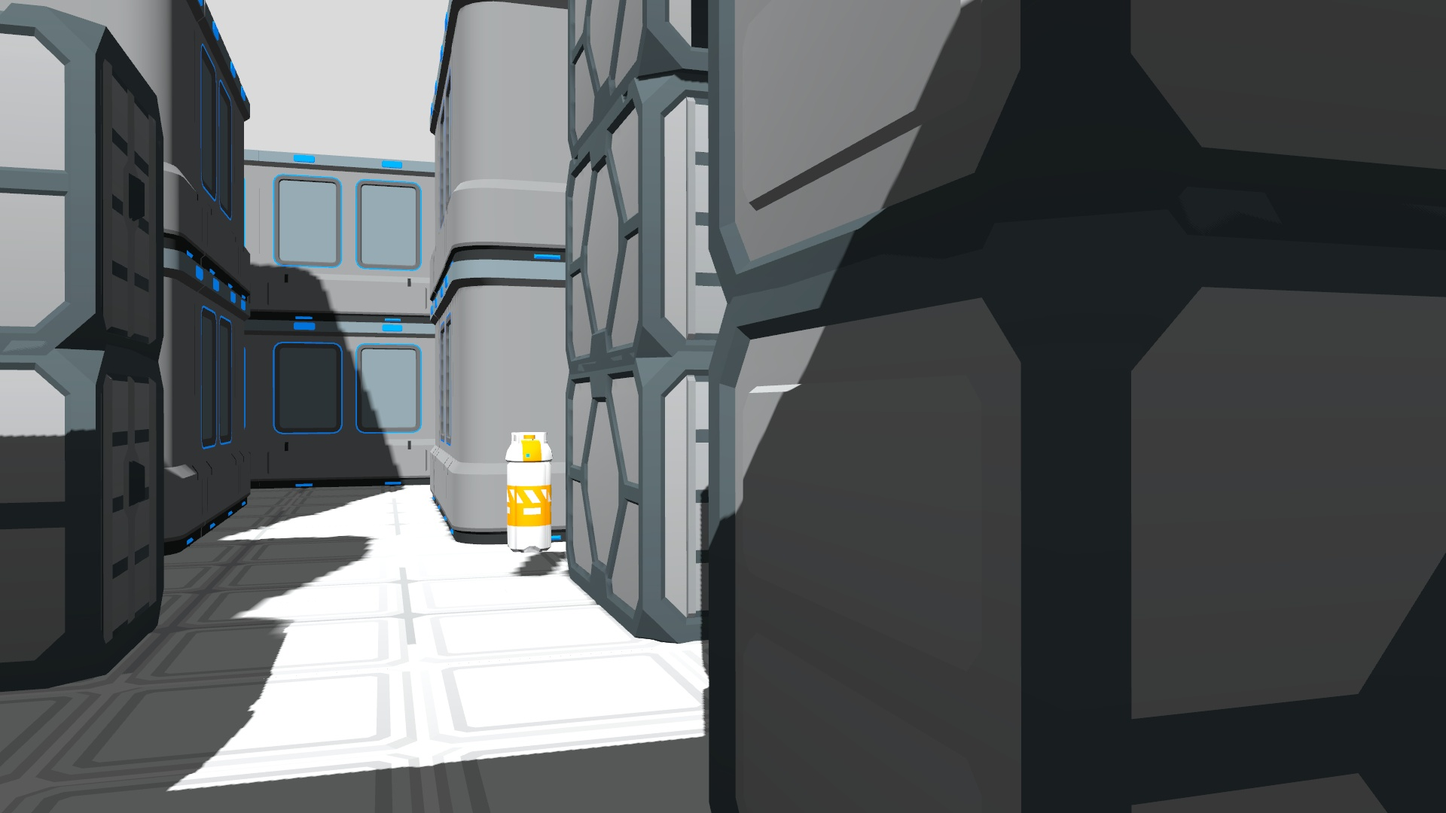yellow_barrel: (502, 427, 557, 555)
